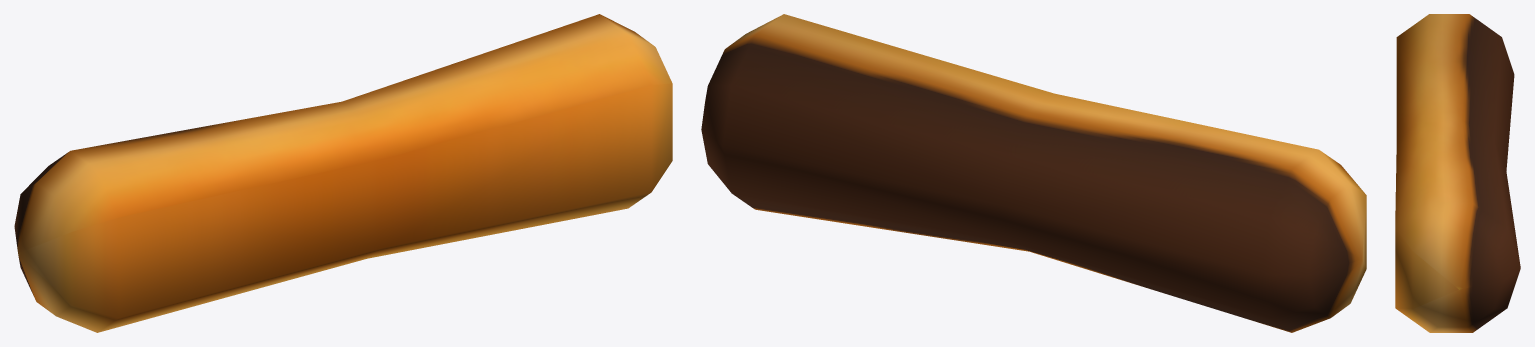
Rendered from Eclair_Chocolate.fbx.
The picture shows the model from 3 angles, left to right: view 1: azimuth 30°, elevation 25°; view 2: azimuth 150°, elevation 25°; view 3: azimuth 270°, elevation 25°; orthographic projection. The views are drawn at different scales.
Visible parts, largest first — view 1: Eclair_Chocolate; view 2: Eclair_Chocolate; view 3: Eclair_Chocolate.
Boxes of the visible parts, x1,y1,x2,y2 form: Eclair_Chocolate: [14, 14, 672, 332]; Eclair_Chocolate: [701, 14, 1366, 332]; Eclair_Chocolate: [1395, 14, 1520, 332].
Bounding box in the file's own units: 13.33 × 2.98 × 3.39.
